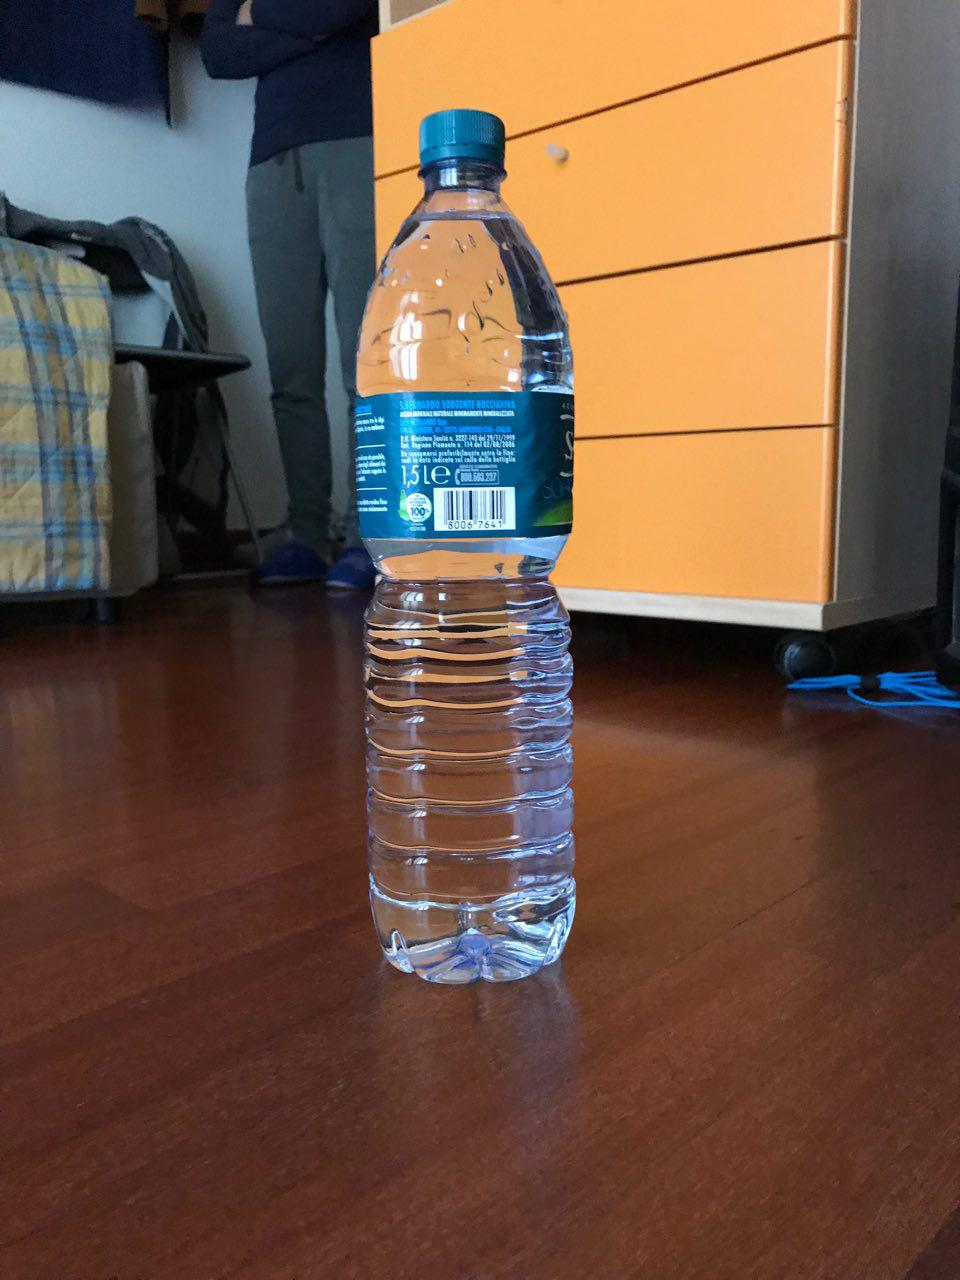san_bernardo: (350, 107, 581, 983)
